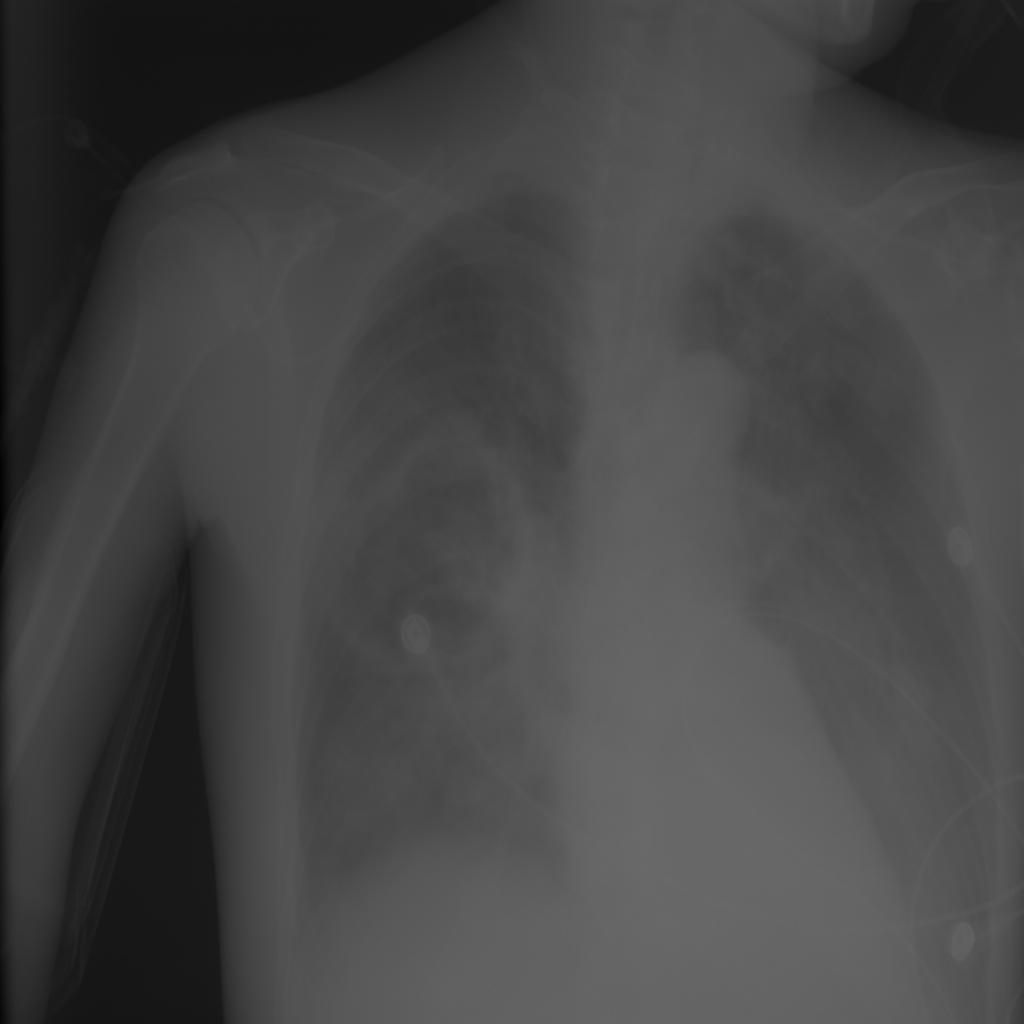Nodule: (772, 272, 901, 420)
